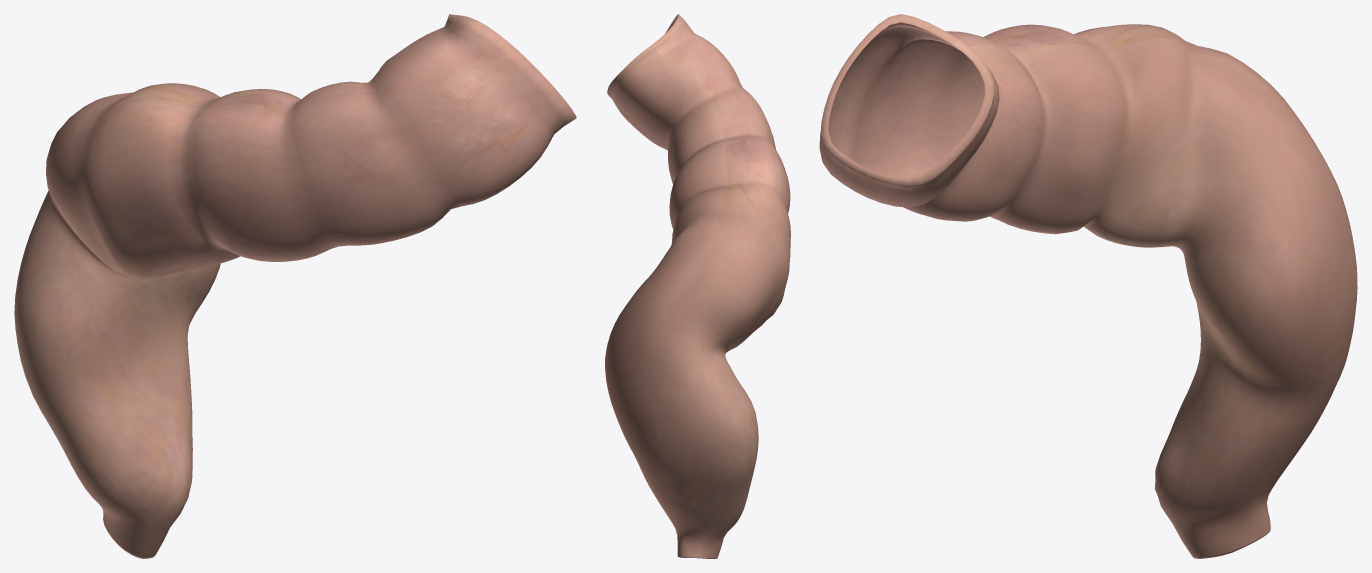
Rendered from open3d-pelvicfloor-digestive-01.glb.
3 views of the same model, side by side, from view 1: azimuth 30°, elevation 25°; view 2: azimuth 150°, elevation 25°; view 3: azimuth 270°, elevation 25° (orthographic). The views are drawn at different scales.
Visible parts, largest first — view 1: O3D_fc0bc312bf3768; view 2: O3D_fc0bc312bf3768; view 3: O3D_fc0bc312bf3768.
Boxes of the visible parts, x1,y1,x2,y2 form: O3D_fc0bc312bf3768: (14, 14, 576, 558); O3D_fc0bc312bf3768: (605, 14, 790, 558); O3D_fc0bc312bf3768: (819, 14, 1357, 558).
Bounding box in the file's own units: 0.0942 × 0.1498 × 0.115.
Materials: 1 (1 with a texture image).
